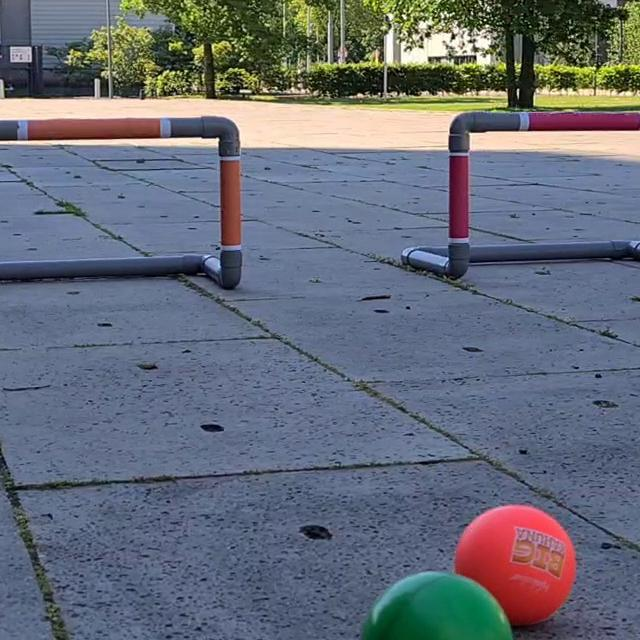ball: (359, 569, 520, 640)
